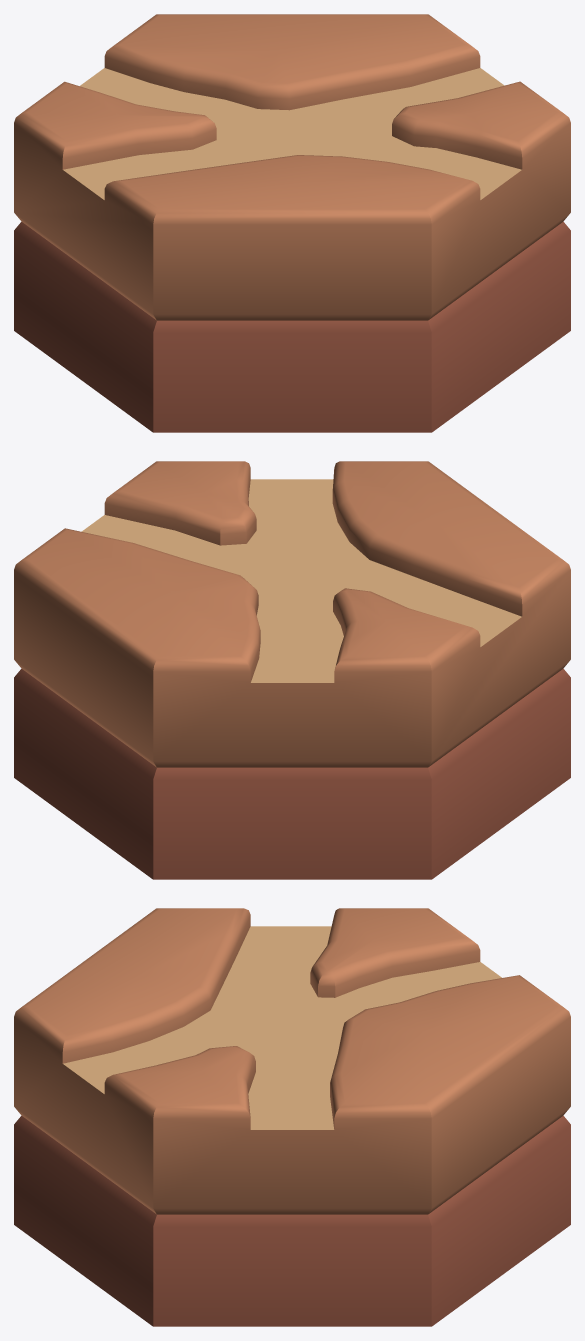
File: hex_rock_roadJ_detail.glb
3 renders of one model, top to bottom at view 1: azimuth 30°, elevation 25°; view 2: azimuth 150°, elevation 25°; view 3: azimuth 270°, elevation 25°, orthographic.
Parts seen in each view (by area): view 1: hex_rock_roadJ_detail; view 2: hex_rock_roadJ_detail; view 3: hex_rock_roadJ_detail.
Part boxes in pixels (x1,y1,x2,y2): hex_rock_roadJ_detail: (14, 14, 570, 432); hex_rock_roadJ_detail: (14, 461, 570, 879); hex_rock_roadJ_detail: (14, 908, 570, 1326).
Size of the model in its own units: 2 by 1 by 2.31.
